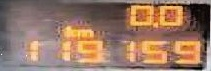-: (149, 19, 160, 28)
0: (155, 3, 184, 24), (124, 3, 151, 23)
1: (22, 37, 42, 62), (55, 38, 71, 63), (122, 37, 135, 64)
5: (138, 37, 167, 63)
9: (171, 37, 202, 66), (71, 38, 104, 63)
X: (62, 23, 75, 37), (75, 27, 93, 36)
